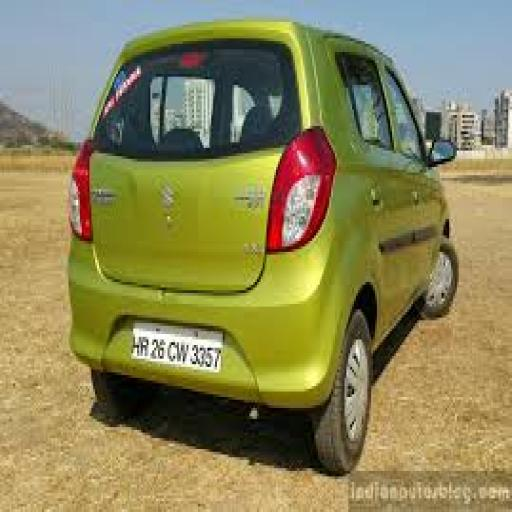License: (128, 314, 229, 371)
